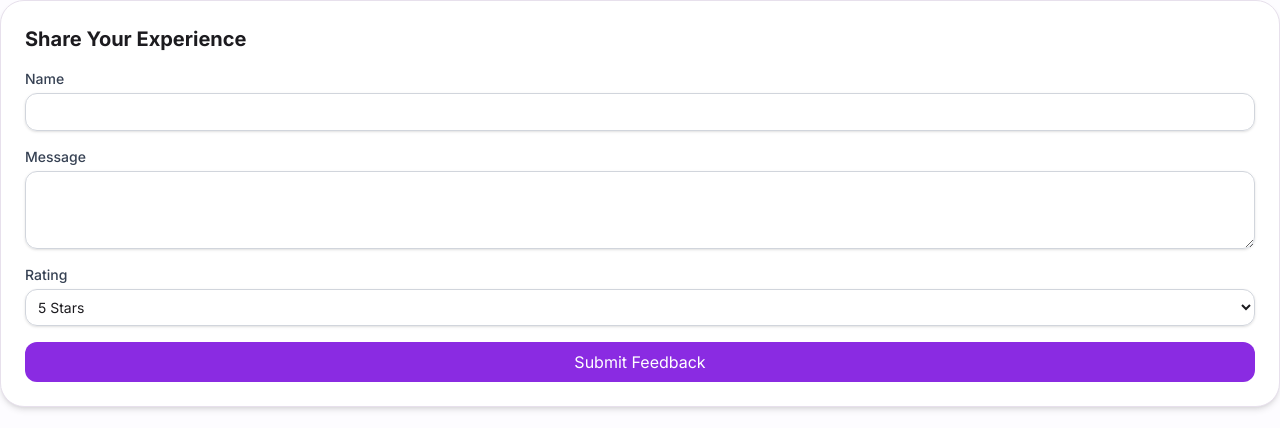
it: FeedbackForm Component › disables button while loading
Type "Loading User" into the field labelled "Name" at (640,112), box x1=25 y1=93 x2=1255 y2=131
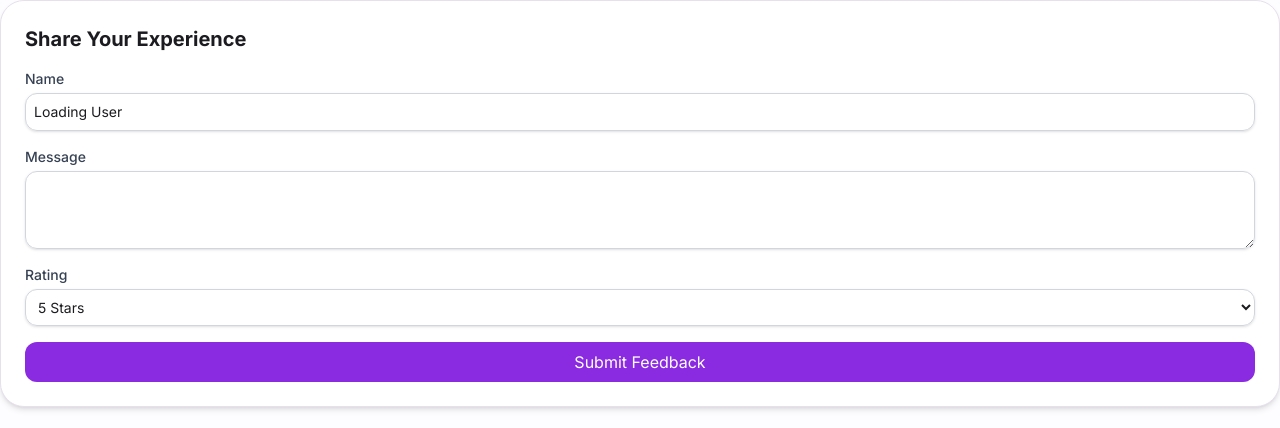
Type "Wait for it" into the text box labelled "Message" at (640,210), box x1=25 y1=171 x2=1255 y2=249
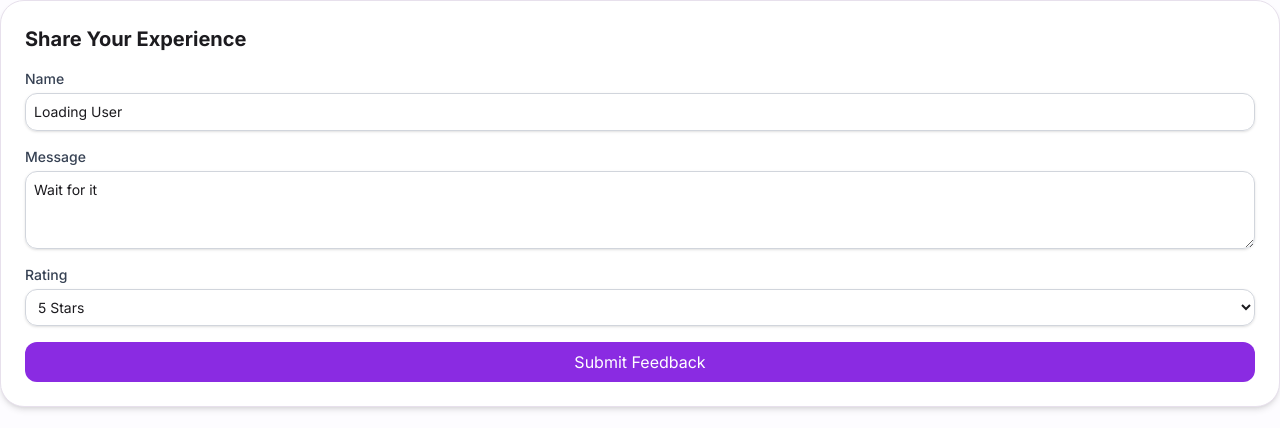
Click the button "Submit Feedback" at (640,362), box x1=25 y1=342 x2=1255 y2=382
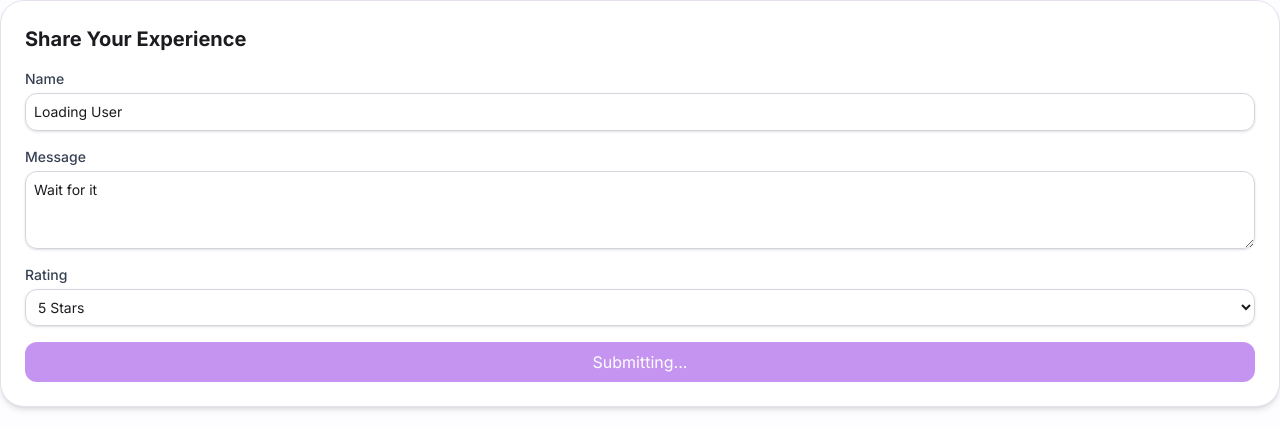
Result: the button is disabled at x1=25 y1=342 x2=1255 y2=382
